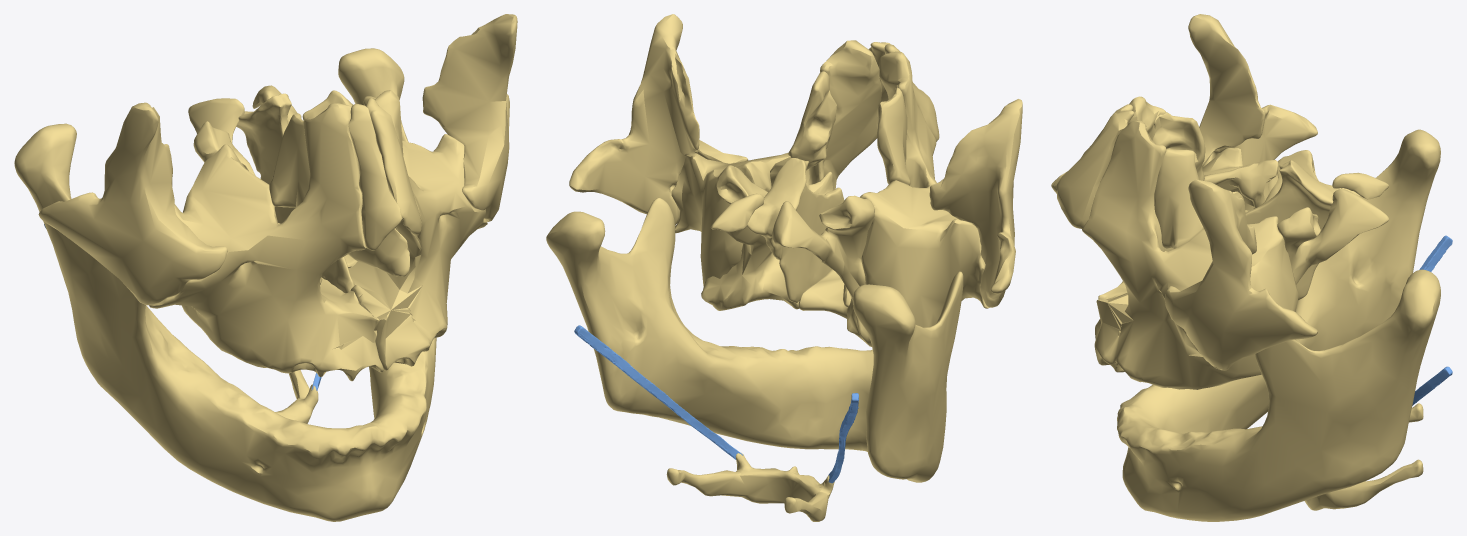
3 views of the same model, side by side, from view 1: azimuth 30°, elevation 25°; view 2: azimuth 150°, elevation 25°; view 3: azimuth 270°, elevation 25° (orthographic). The views are drawn at different scales.
Parts seen in each view (by area): view 1: head-neck:mandible:isa:FJ3289, head-neck:maxilla:isa:FJ3375, head-neck:zygomatic-bone:isa:FJ3392, head-neck:maxilla:isa:FJ3269, head-neck:zygomatic-bone:isa:FJ3287, head-neck:nasal-bone:isa:FJ3378, head-neck:vomer:isa:FJ3395, head-neck:nasal-bone:isa:FJ3272, head-neck:lacrimal-bone:isa:FJ3371, head-neck:palatine-bone:isa:FJ3379, head-neck:inferior-nasal-concha:isa:FJ3263, head-neck:hyoid-bone:isa:FJ2772 (+1 smaller); view 2: head-neck:mandible:isa:FJ3289, head-neck:maxilla:isa:FJ3375, head-neck:zygomatic-bone:isa:FJ3287, head-neck:maxilla:isa:FJ3269, head-neck:zygomatic-bone:isa:FJ3392, head-neck:palatine-bone:isa:FJ3379, head-neck:palatine-bone:isa:FJ3273, head-neck:vomer:isa:FJ3395, head-neck:hyoid-bone:isa:FJ2772, head-neck:lacrimal-bone:isa:FJ3265, head-neck:lacrimal-bone:isa:FJ3371, supplemental:stylohyoid-ligament:isa:FJ2763 (+2 smaller); view 3: head-neck:mandible:isa:FJ3289, head-neck:maxilla:isa:FJ3269, head-neck:zygomatic-bone:isa:FJ3287, head-neck:zygomatic-bone:isa:FJ3392, head-neck:palatine-bone:isa:FJ3273, head-neck:maxilla:isa:FJ3375, head-neck:lacrimal-bone:isa:FJ3265, head-neck:nasal-bone:isa:FJ3272, head-neck:vomer:isa:FJ3395, head-neck:hyoid-bone:isa:FJ2772, head-neck:lacrimal-bone:isa:FJ3371, head-neck:palatine-bone:isa:FJ3379 (+2 smaller).
Part boxes in pixels (<box>): head-neck:mandible:isa:FJ3289: <box>14,48,436,521</box>; head-neck:maxilla:isa:FJ3375: <box>149,103,383,381</box>; head-neck:zygomatic-bone:isa:FJ3392: <box>38,102,227,305</box>; head-neck:maxilla:isa:FJ3269: <box>322,90,487,370</box>; head-neck:zygomatic-bone:isa:FJ3287: <box>422,14,517,221</box>; head-neck:nasal-bone:isa:FJ3378: <box>348,104,402,250</box>; head-neck:vomer:isa:FJ3395: <box>236,93,354,293</box>; head-neck:nasal-bone:isa:FJ3272: <box>366,98,421,235</box>; head-neck:lacrimal-bone:isa:FJ3371: <box>269,113,309,207</box>; head-neck:palatine-bone:isa:FJ3379: <box>188,98,255,175</box>; head-neck:inferior-nasal-concha:isa:FJ3263: <box>348,228,409,276</box>; head-neck:hyoid-bone:isa:FJ2772: <box>275,370,318,423</box>; head-neck:mandible:isa:FJ3289: <box>546,198,963,482</box>; head-neck:maxilla:isa:FJ3375: <box>860,51,989,327</box>; head-neck:zygomatic-bone:isa:FJ3287: <box>569,14,748,225</box>; head-neck:maxilla:isa:FJ3269: <box>671,40,881,285</box>; head-neck:zygomatic-bone:isa:FJ3392: <box>929,99,1022,307</box>; head-neck:palatine-bone:isa:FJ3379: <box>772,195,874,346</box>; head-neck:palatine-bone:isa:FJ3273: <box>701,165,799,310</box>; head-neck:vomer:isa:FJ3395: <box>747,158,844,302</box>; head-neck:hyoid-bone:isa:FJ2772: <box>666,453,834,521</box>; head-neck:lacrimal-bone:isa:FJ3265: <box>788,71,836,169</box>; head-neck:lacrimal-bone:isa:FJ3371: <box>877,85,910,185</box>; supplemental:stylohyoid-ligament:isa:FJ2763: <box>574,325,742,459</box>; head-neck:mandible:isa:FJ3289: <box>1117,129,1440,521</box>; head-neck:maxilla:isa:FJ3269: <box>1082,120,1298,389</box>; head-neck:zygomatic-bone:isa:FJ3287: <box>1164,179,1317,370</box>; head-neck:zygomatic-bone:isa:FJ3392: <box>1188,14,1317,167</box>; head-neck:palatine-bone:isa:FJ3273: <box>1277,189,1388,343</box>; head-neck:maxilla:isa:FJ3375: <box>1095,96,1278,339</box>; head-neck:lacrimal-bone:isa:FJ3265: <box>1154,149,1203,248</box>; head-neck:nasal-bone:isa:FJ3272: <box>1056,110,1134,228</box>; head-neck:vomer:isa:FJ3395: <box>1245,160,1360,300</box>; head-neck:hyoid-bone:isa:FJ2772: <box>1304,403,1423,510</box>; head-neck:lacrimal-bone:isa:FJ3371: <box>1152,112,1205,180</box>; head-neck:palatine-bone:isa:FJ3379: <box>1245,150,1388,212</box>.
Size of the model in its own units: 0.1278 by 0.1151 by 0.104.
